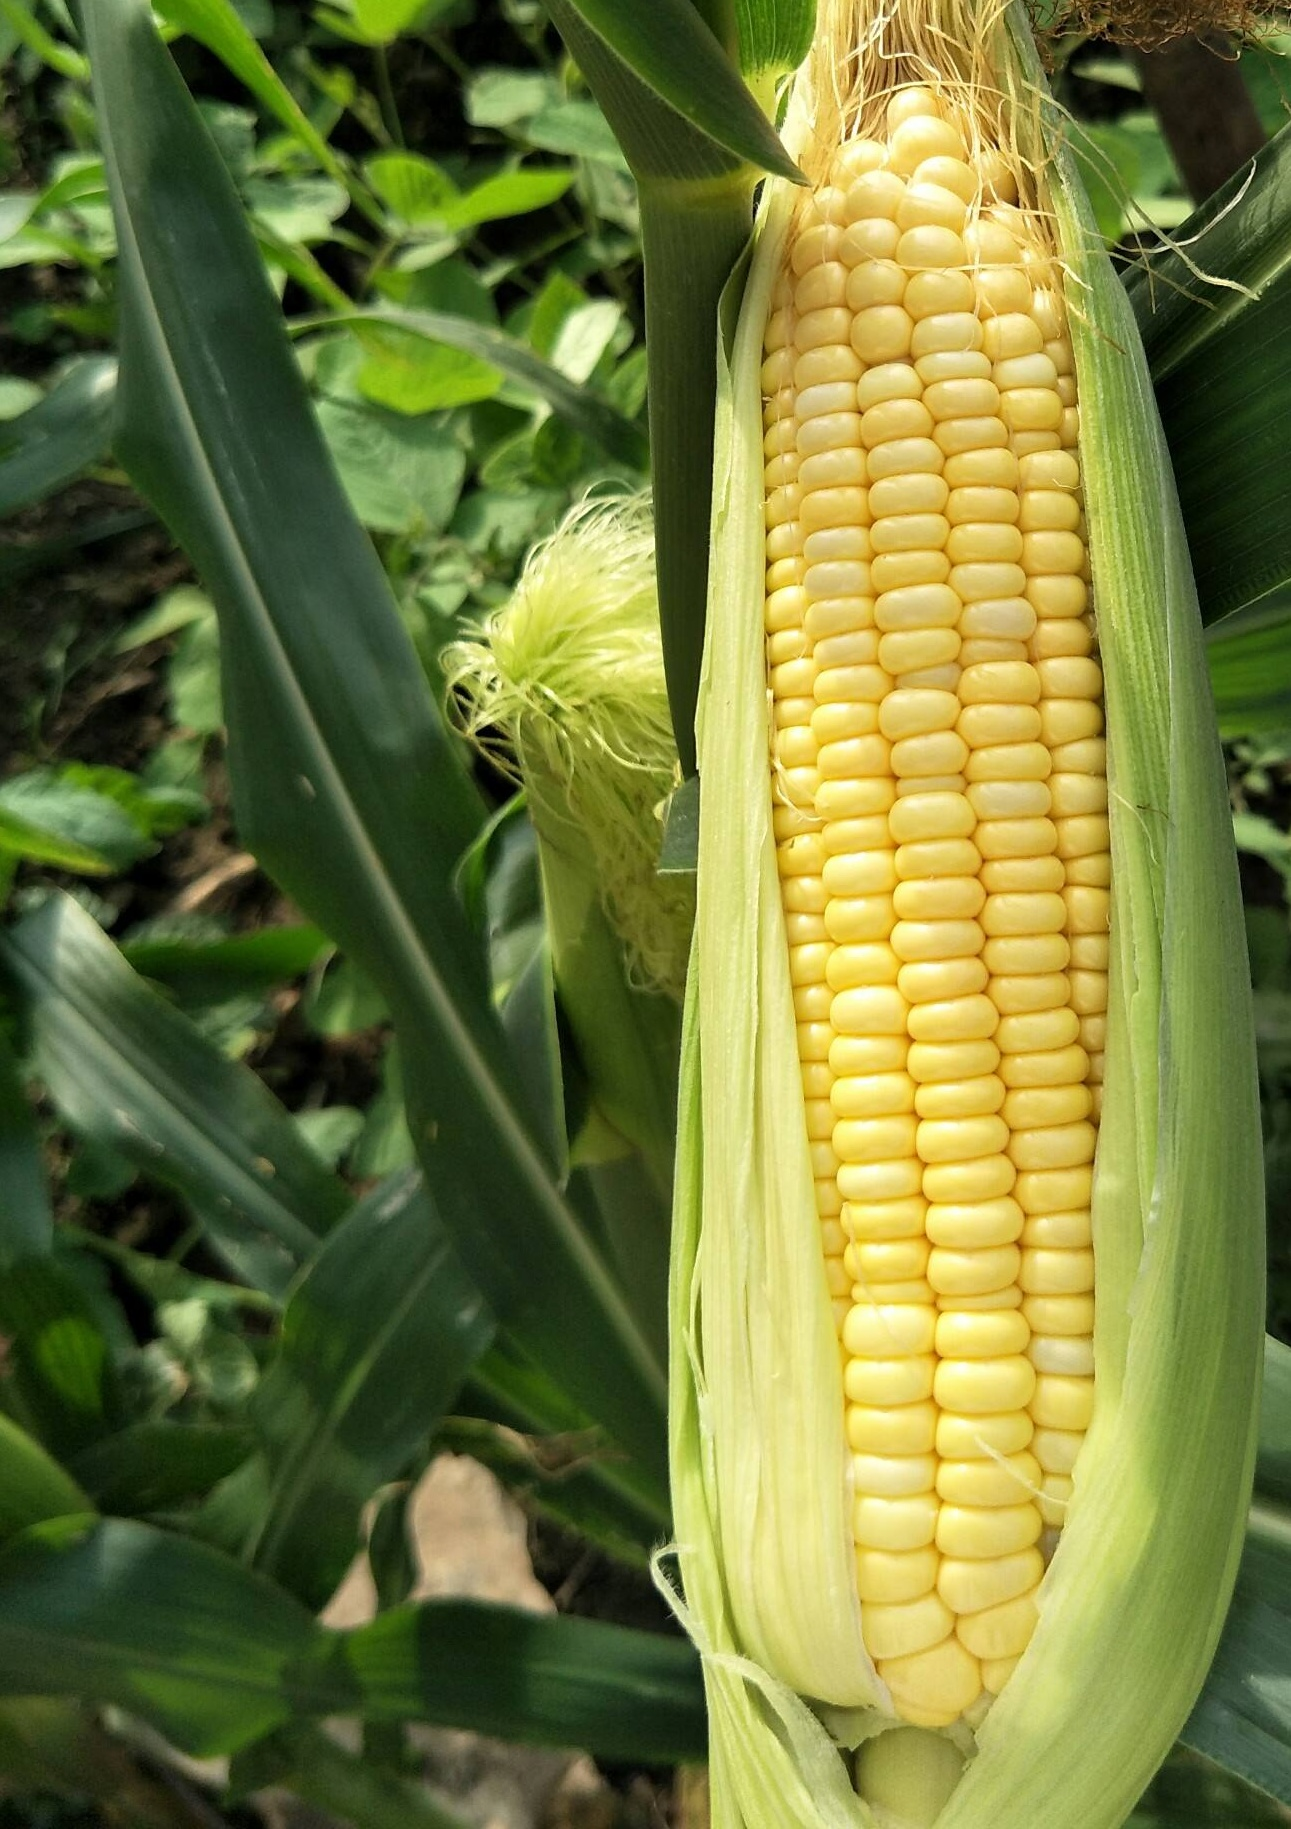corn: (675, 57, 1263, 1829)
